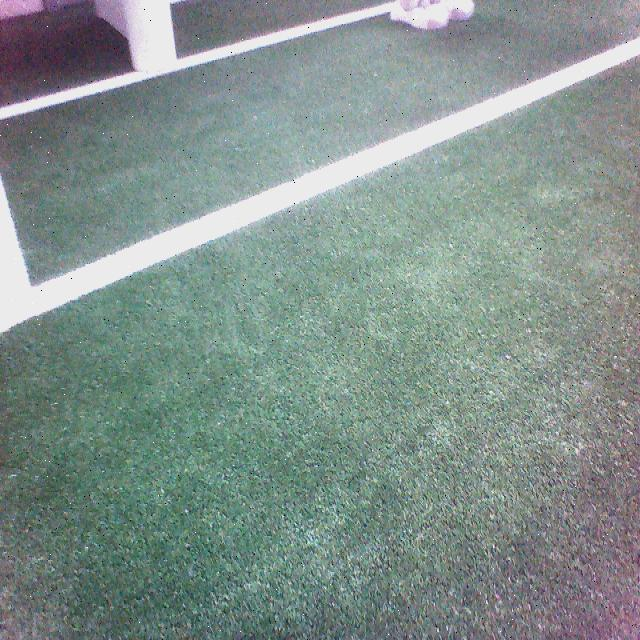goalpost: (123, 3, 177, 72)
